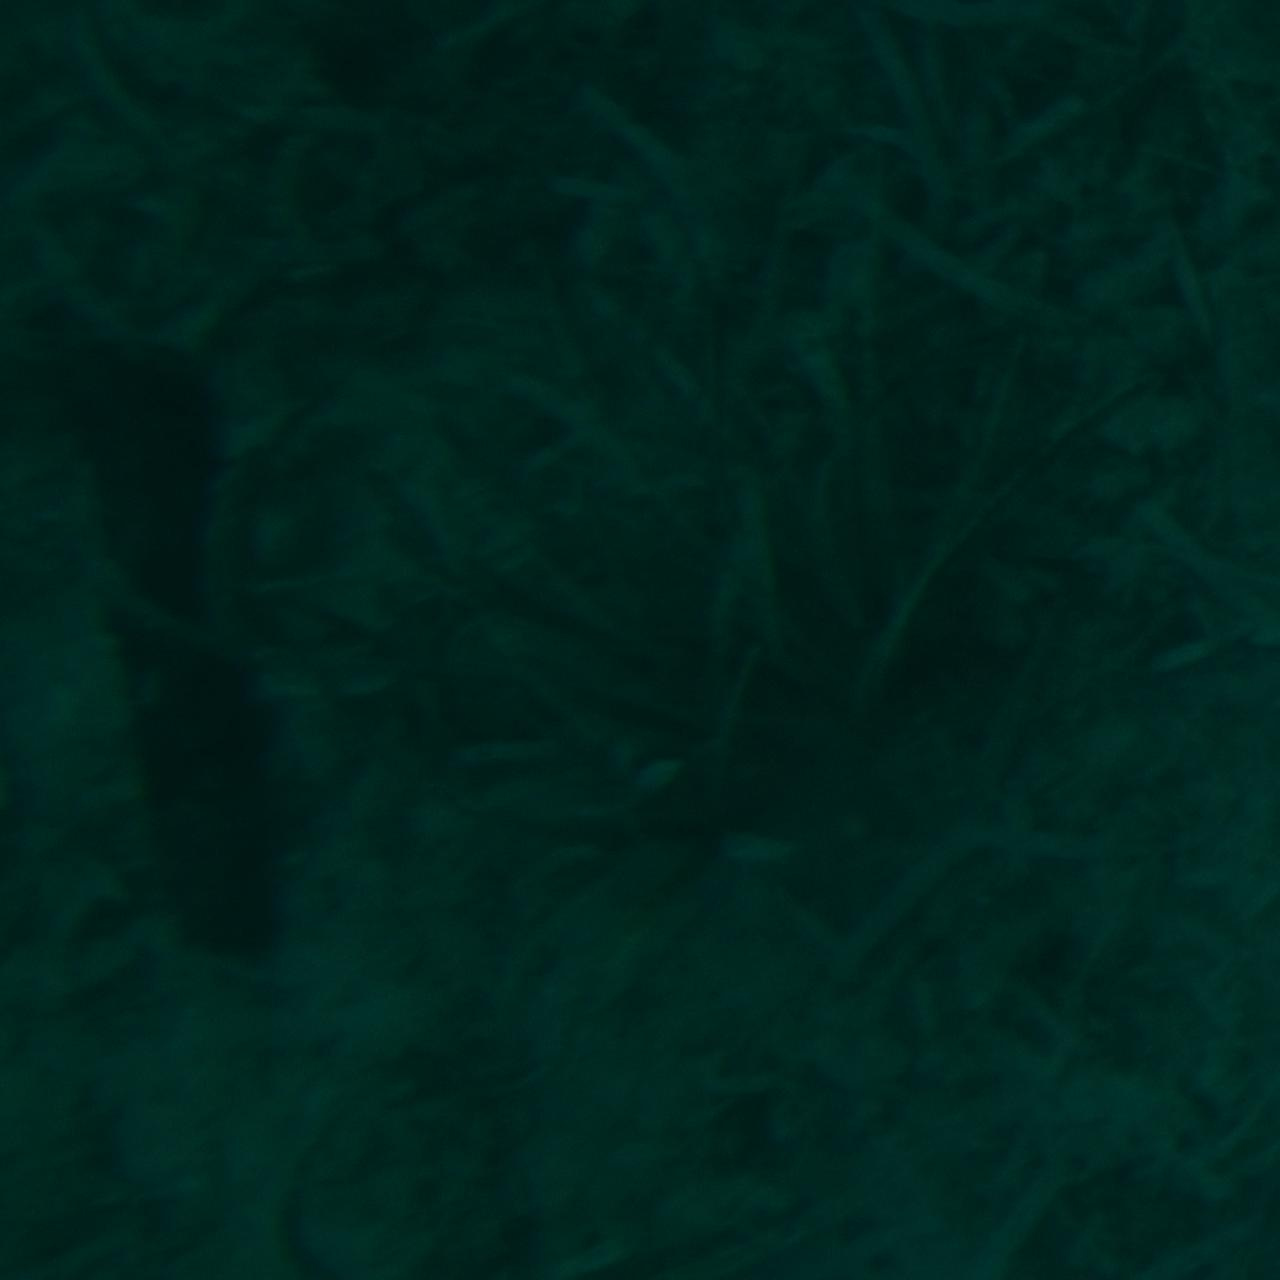Holothuria tubulosa: (49, 329, 299, 951)
